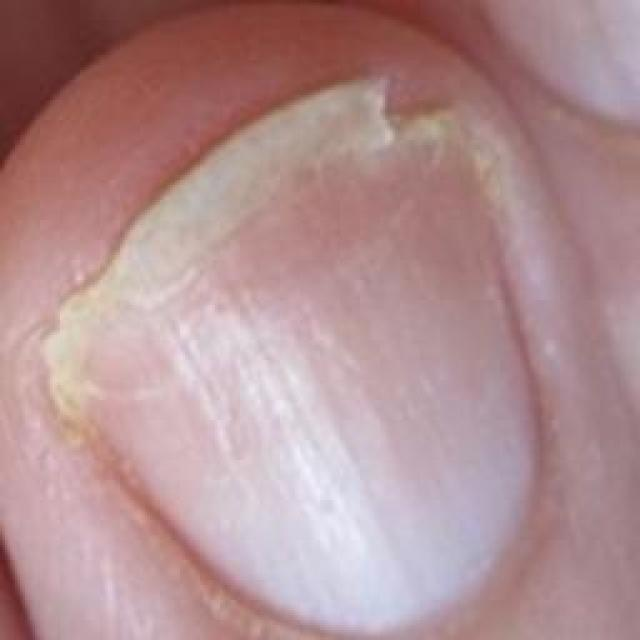Nail: (47, 75, 544, 633)
